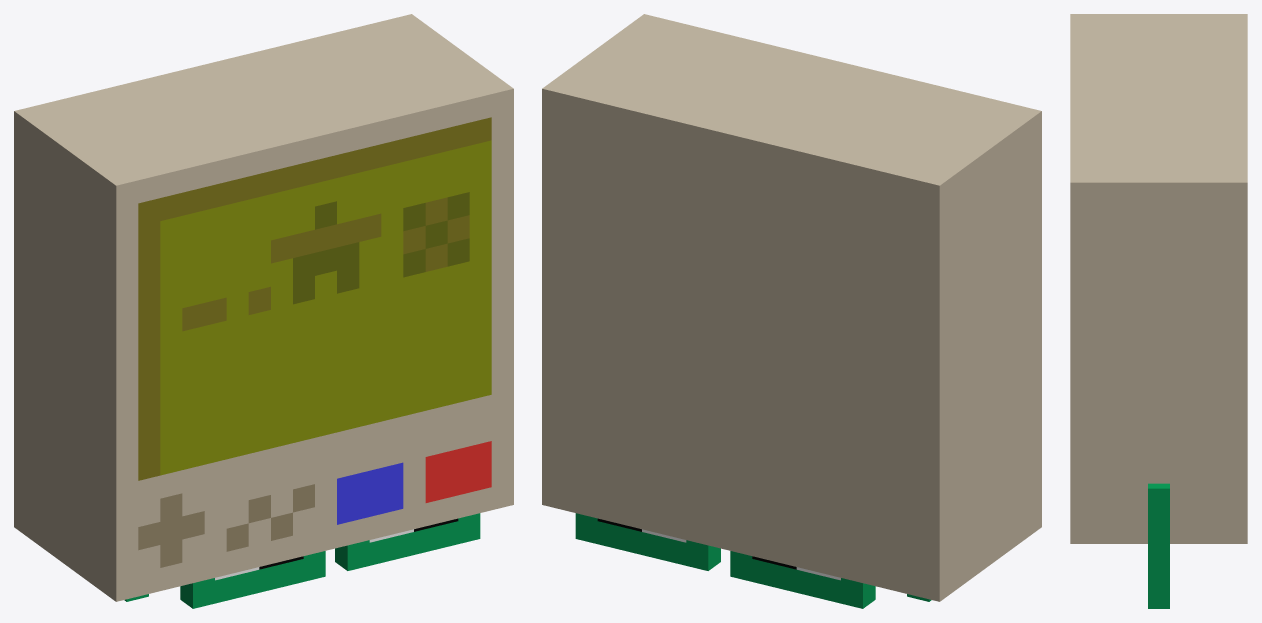
File: handheldconsole.glb
3 renders of one model, left to right at view 1: azimuth 30°, elevation 25°; view 2: azimuth 150°, elevation 25°; view 3: azimuth 270°, elevation 25°, orthographic. The views are drawn at different scales.
Parts seen in each view (by area): view 1: base, screen, buttons, glasses, mouth; view 2: base, glasses; view 3: base, glasses.
Boxes of the visible parts, x1,y1,x2,y2 form: base: (14,14,513,601); screen: (138,117,491,480); buttons: (138,441,491,567); glasses: (124,513,480,608); mouth: (226,484,314,551); base: (542,14,1041,601); glasses: (575,513,931,608); base: (1070,14,1247,543); glasses: (1148,483,1169,608).
Bounding box in the file's own units: 18.5 × 21 × 8.
Materials: 11 (11 with a texture image).
